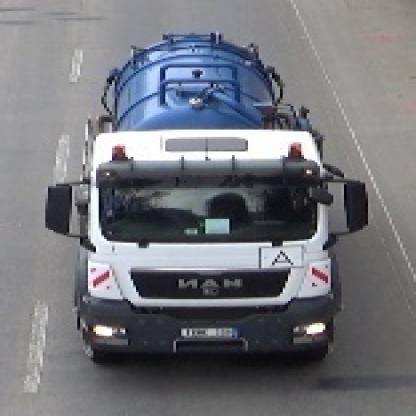truck: (49, 30, 369, 362)
